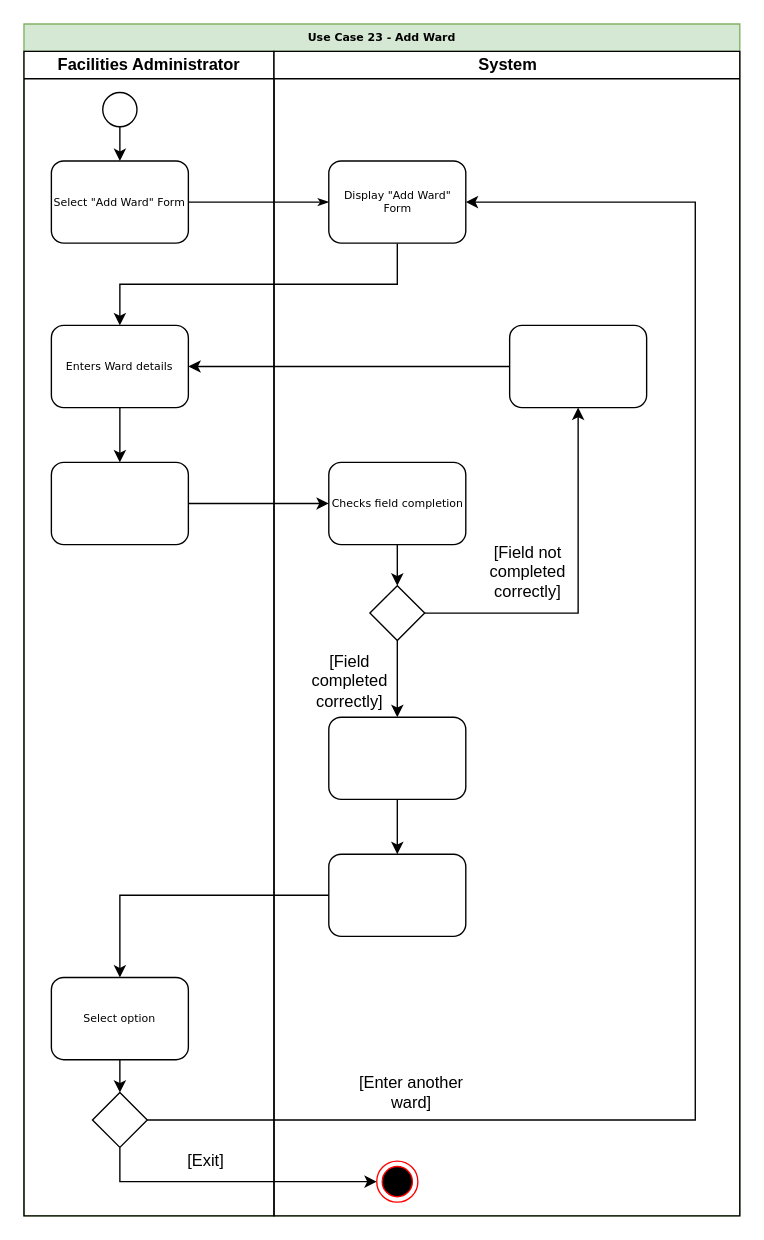
This 764x1240 diagram has some shape labels left out. Each missing label, with the box of its shape:
Display message and highlight incomplete fields: (508, 324, 647, 408)
Generates unique Ward ID: (327, 716, 466, 799)
Save Ward Detials: (327, 853, 466, 936)
Select "Add Ward" button: (50, 461, 188, 545)
